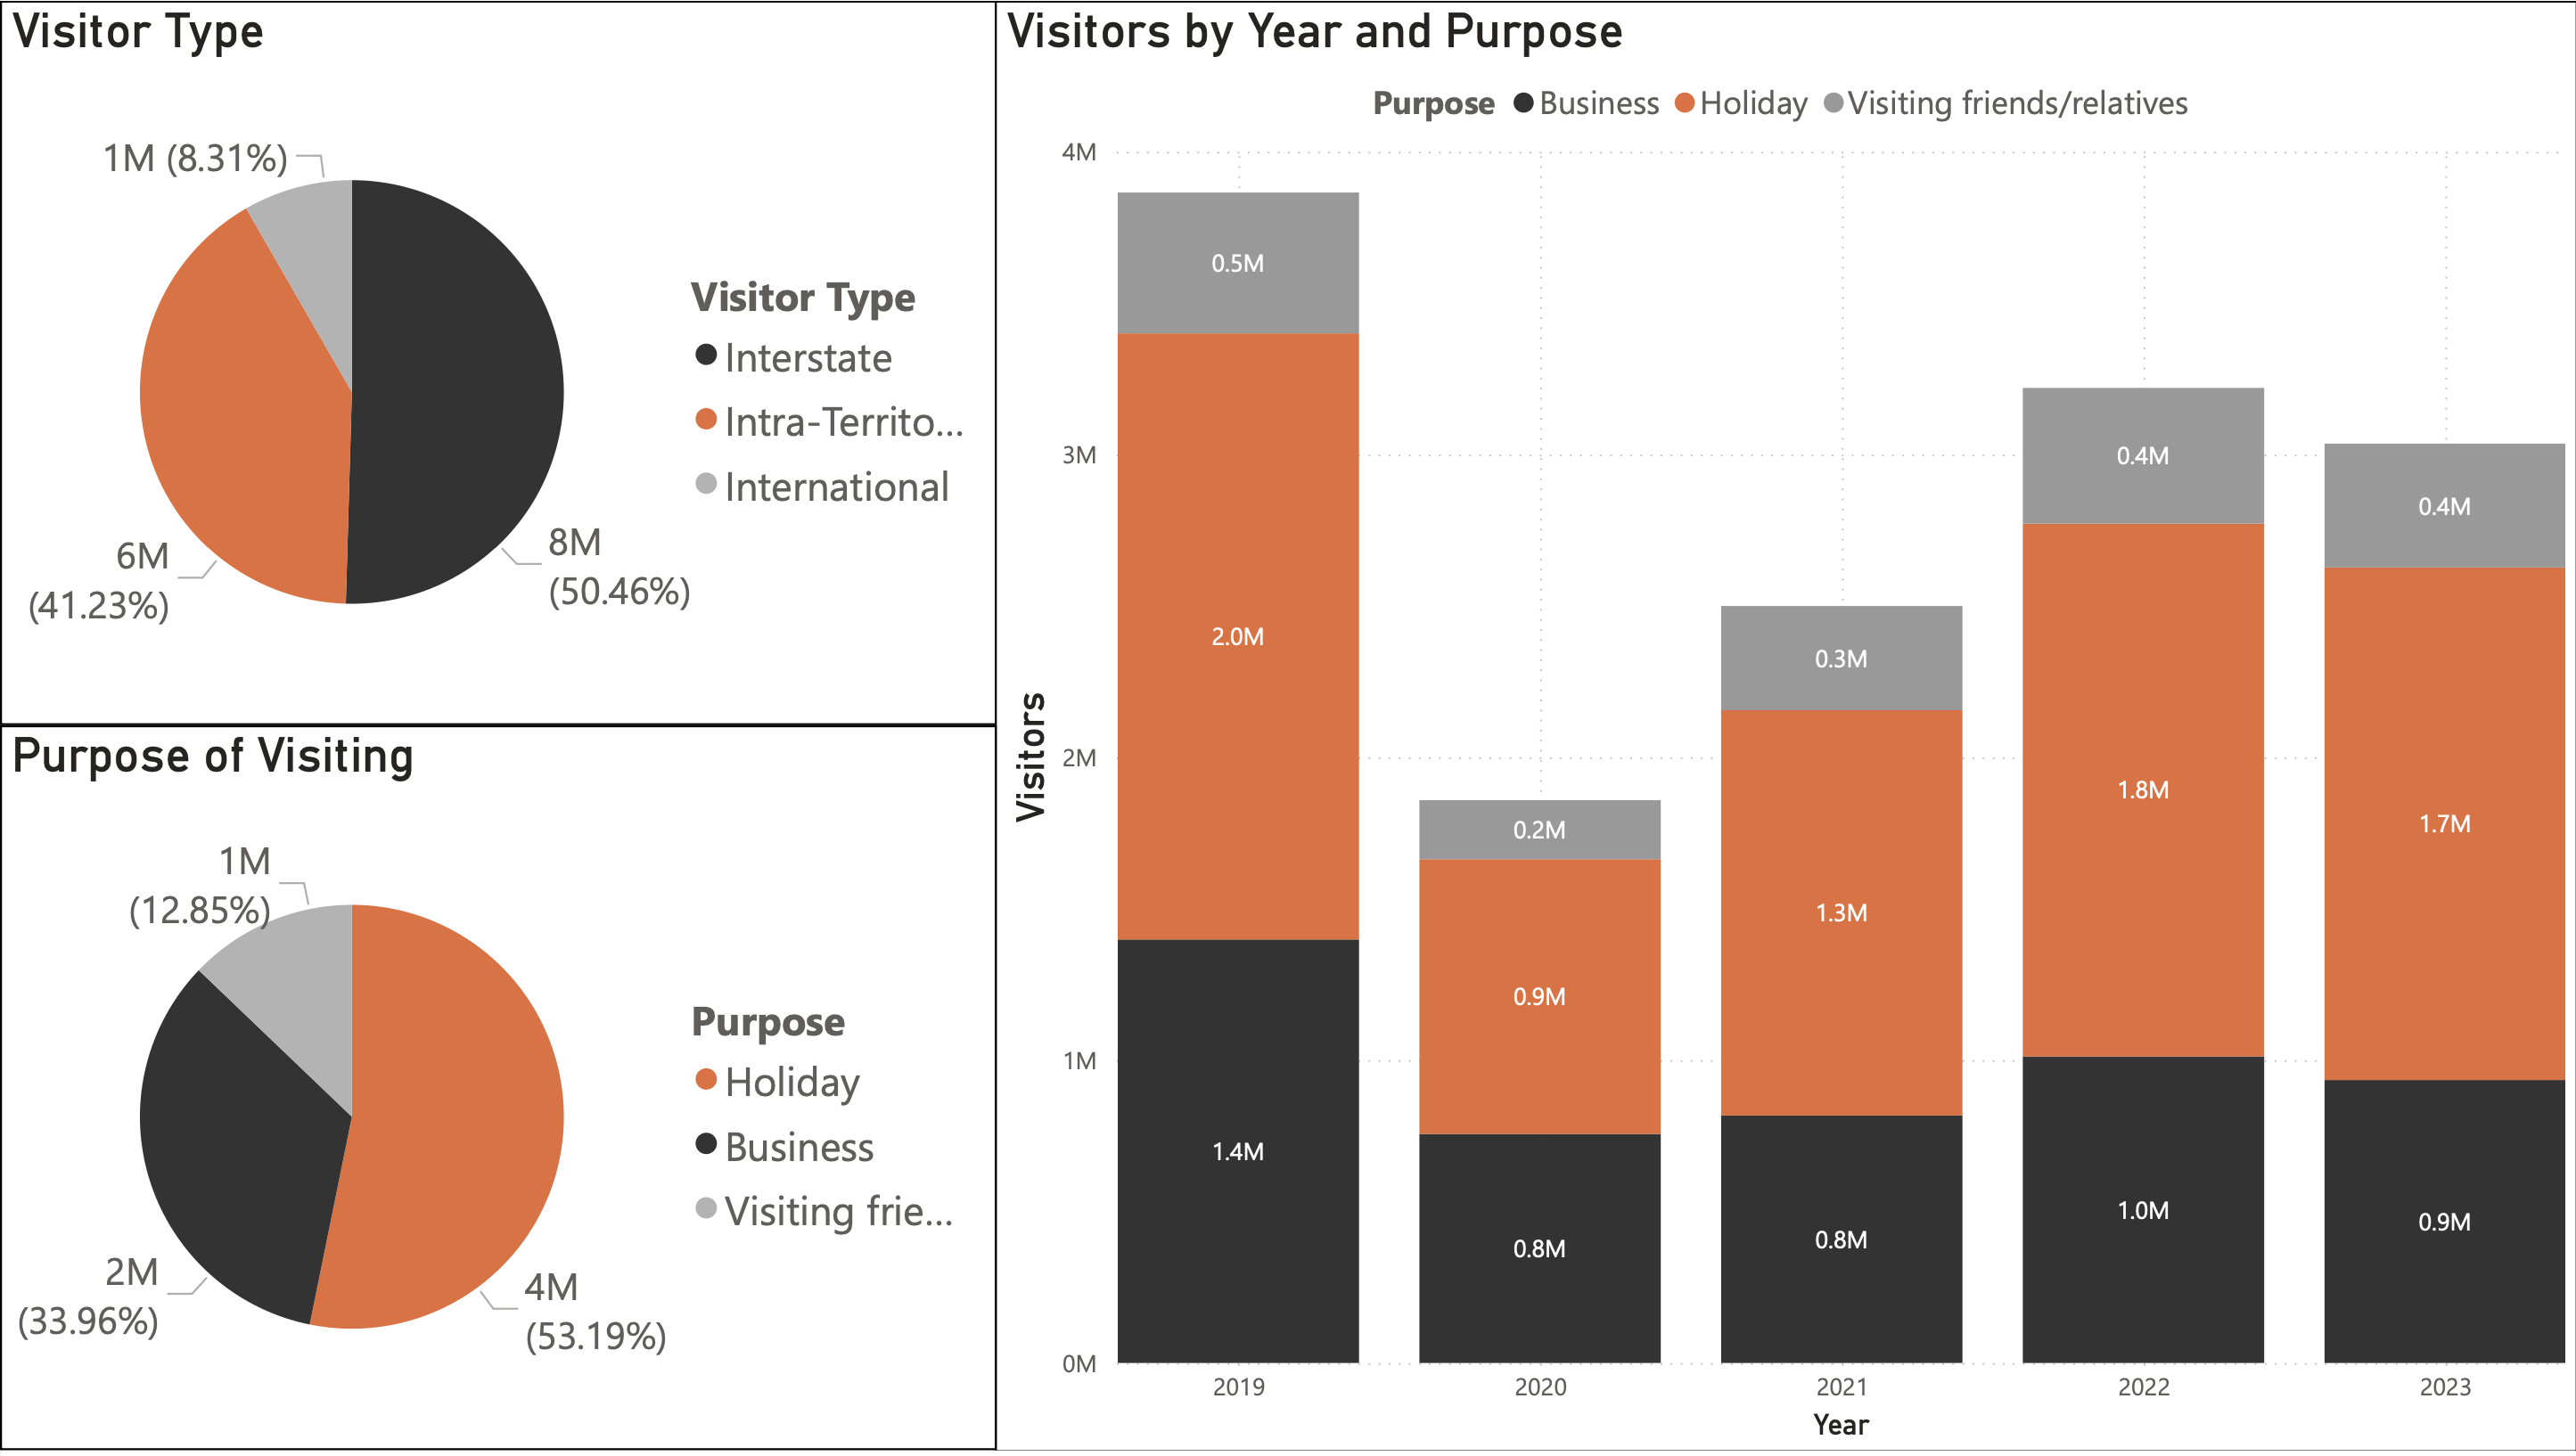

Layout of this report page (visuals, bound fields, positions):
{"tool":"powerbi","page":{"name":"Visitor and Purpose","canvas":[1280,720],"ordinal":0},"visuals":[{"type":"pieChart","title":"Visitor Type","fields":{"Category":["NT Visitor YE December.Visitor Type"],"Y":["Sum(NT Visitor YE December.Column)"]},"box":[0,0,495.5,360.3],"z":0},{"type":"columnChart","title":"Visitors by Year and Purpose","fields":{"Category":["NT Visitor YE December.Year.Variation.Date Hierarchy.Year"],"Y":["Sum(NT Visitor YE December.Visitors)"],"Series":["NT Visitor YE December.Purpose"]},"box":[494.1,0,786.2,720.7],"z":3},{"type":"pieChart","title":"Purpose of Visiting","fields":{"Category":["NT Visitor YE December.Purpose"],"Y":["Sum(NT Visitor YE December.Column)"]},"box":[0,360.3,495.5,360.3],"z":4}]}

Visuals, with their boxes in screenshot pixels (x1, y1, x2, y2), scaled from the page's 1280x720 canvas onto the 2576x1456 screenshot:
"Visitor Type" pieChart: <region>0, 0, 997, 729</region>
"Visitors by Year and Purpose" columnChart: <region>995, 0, 2575, 1455</region>
"Purpose of Visiting" pieChart: <region>0, 729, 997, 1455</region>
